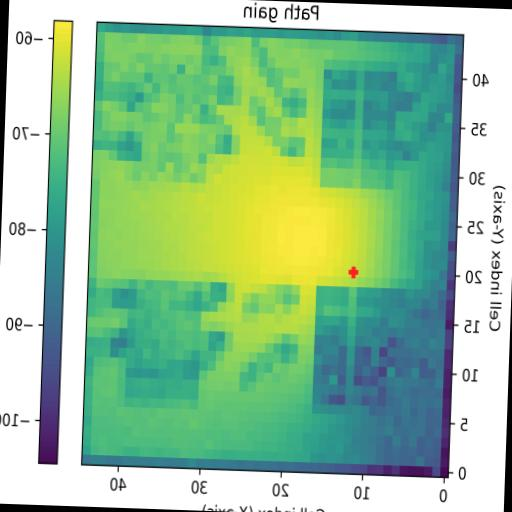Concrete: (132, 56, 218, 182)
Glass: (318, 70, 396, 188)
Metal: (123, 279, 202, 409)
Wood: (312, 286, 404, 416)
